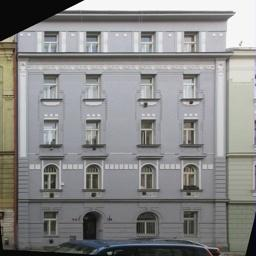building: (17, 5, 235, 242)
